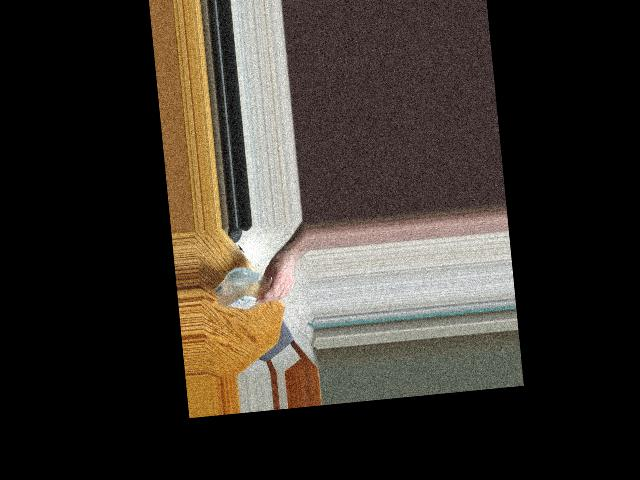cheese: (216, 268, 283, 310)
